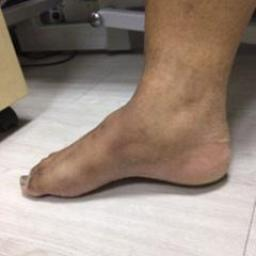Medial View -Right Foot-: (14, 62, 236, 204)
